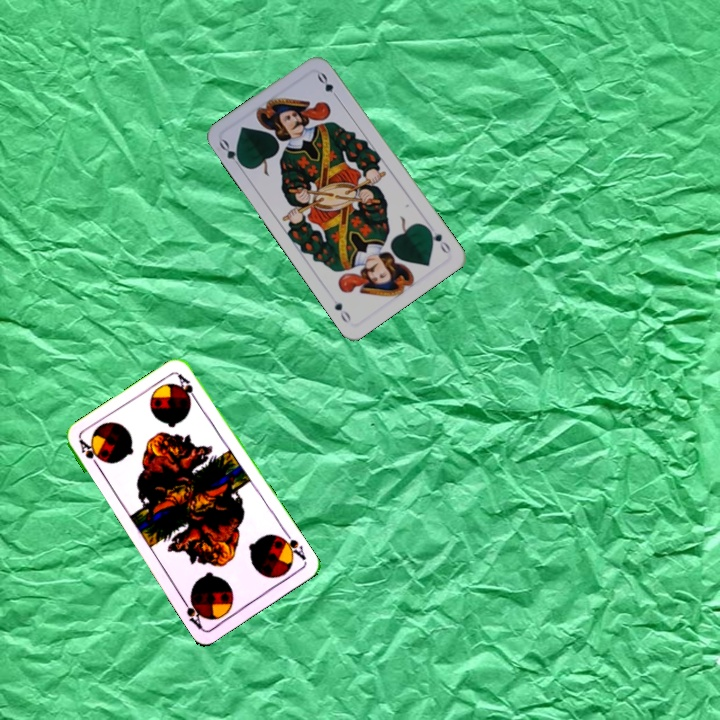GO: (215, 135, 247, 172), (422, 223, 453, 256)
SA: (275, 527, 309, 563), (75, 435, 104, 472)
